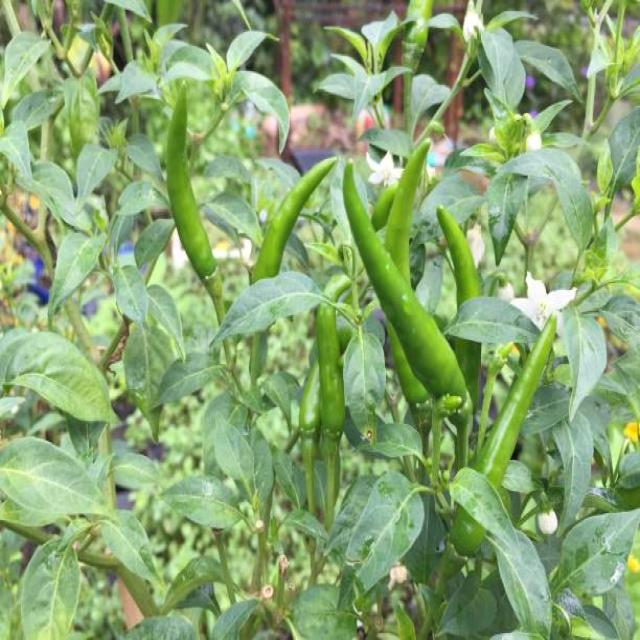Unripe: (342, 164, 466, 399), (474, 315, 556, 488), (168, 87, 225, 322), (251, 157, 336, 281), (316, 302, 345, 526), (385, 138, 430, 282), (436, 205, 480, 306), (389, 323, 429, 403), (454, 340, 481, 409)
